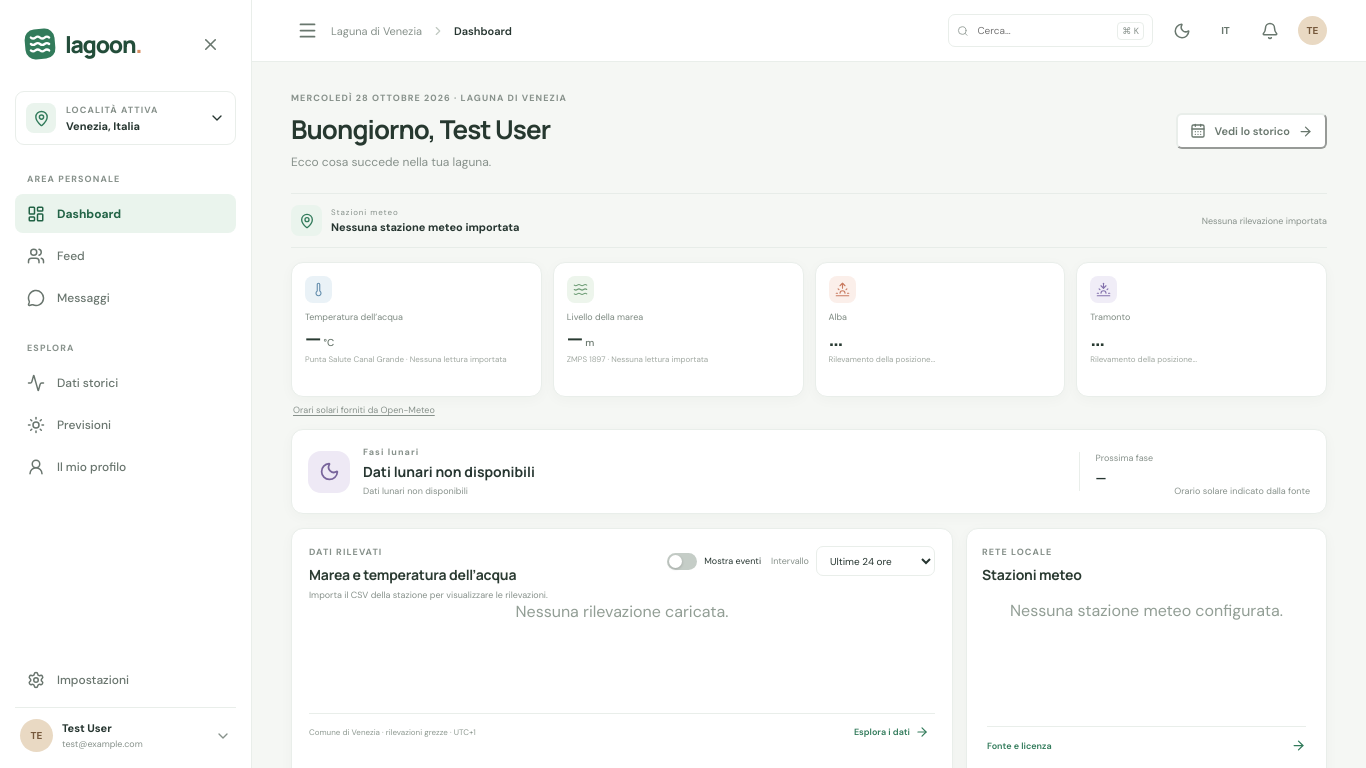
dashboard weather readings › lets the user choose a city for local sunrise and sunset times
This screenshot has width=1366, height=768.
Click the button "LOCALITÀ ATTIVA Venezia, Italia": {"x": 126, "y": 118} 15,91 -> 236,145
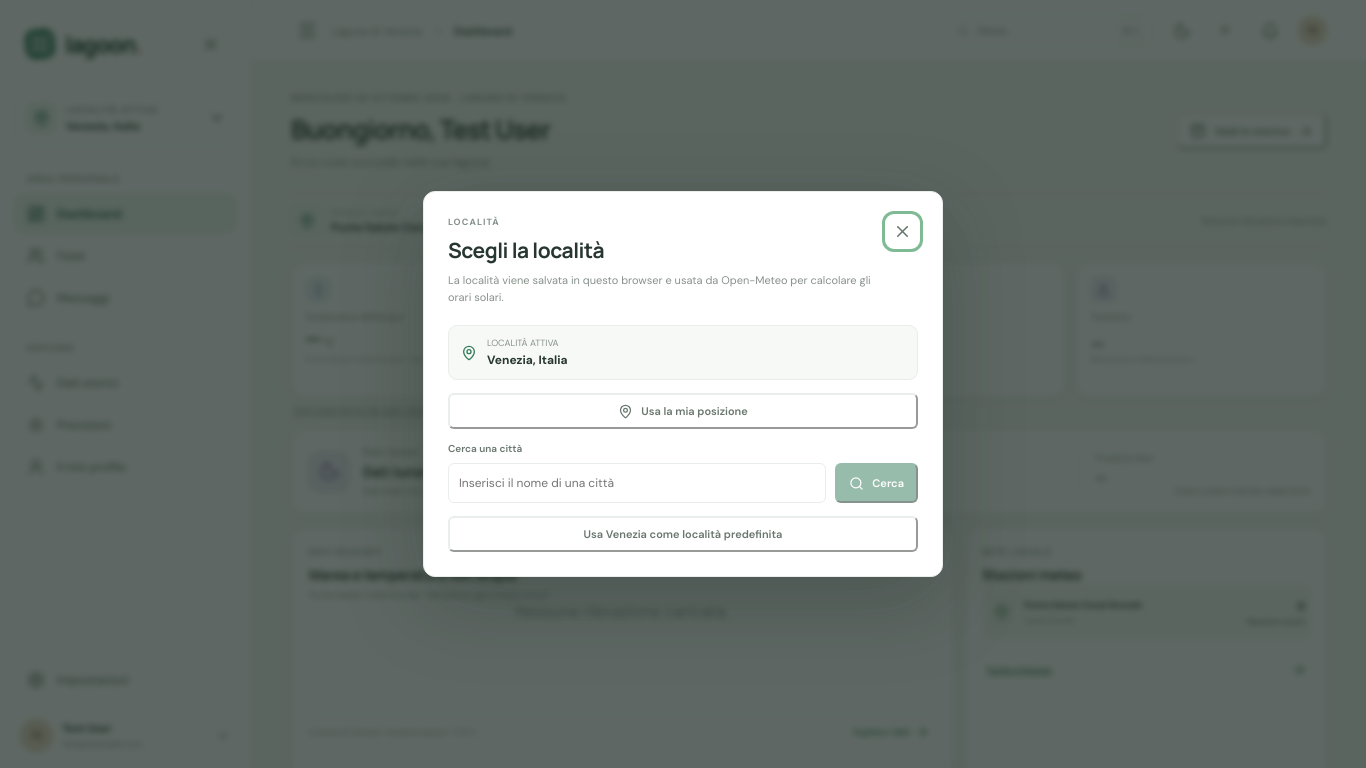
Now the heading "Scegli la località" is shown, box 448,236 -> 604,264
In the field with placeholder "Inserisci il nome di una città": {"x": 637, "y": 483} 448,463 -> 826,503, type "Milano"
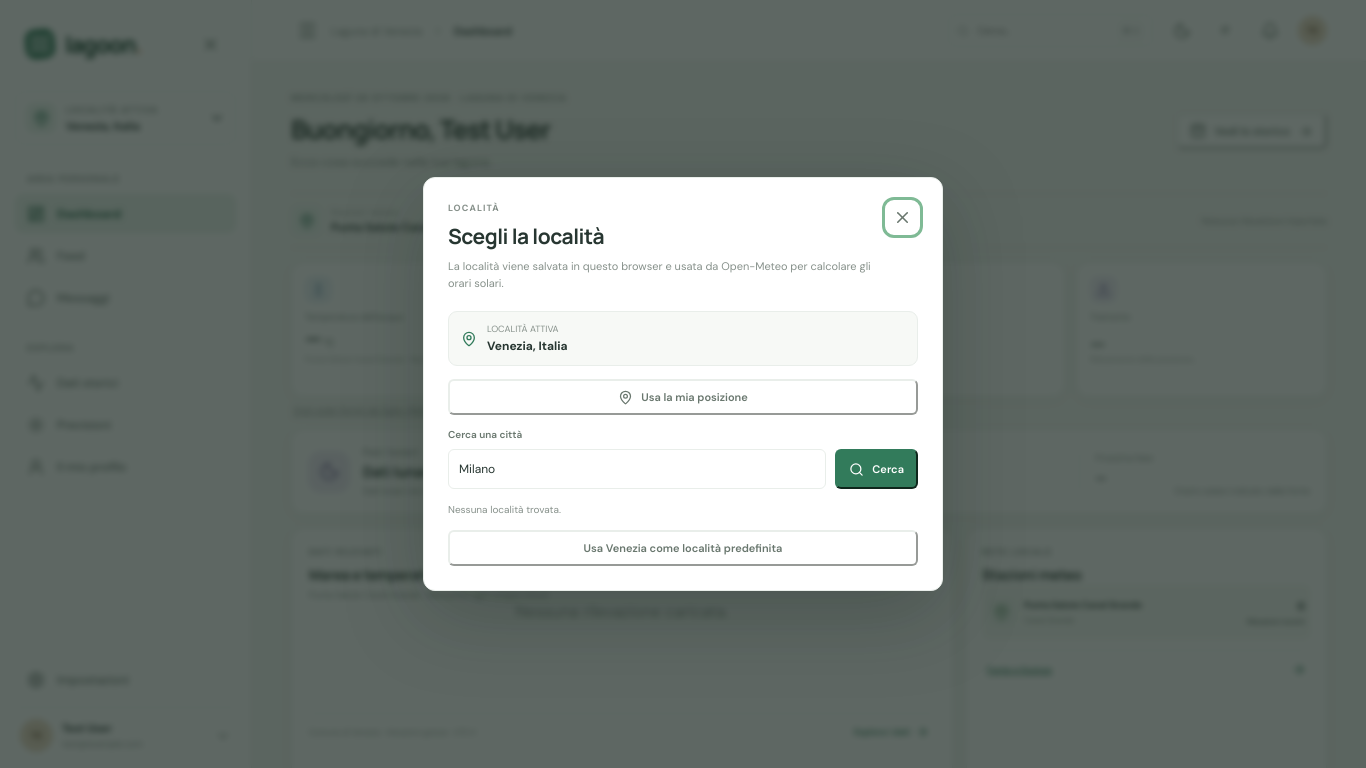
Click the button "Cerca": {"x": 877, "y": 469} 835,449 -> 918,489
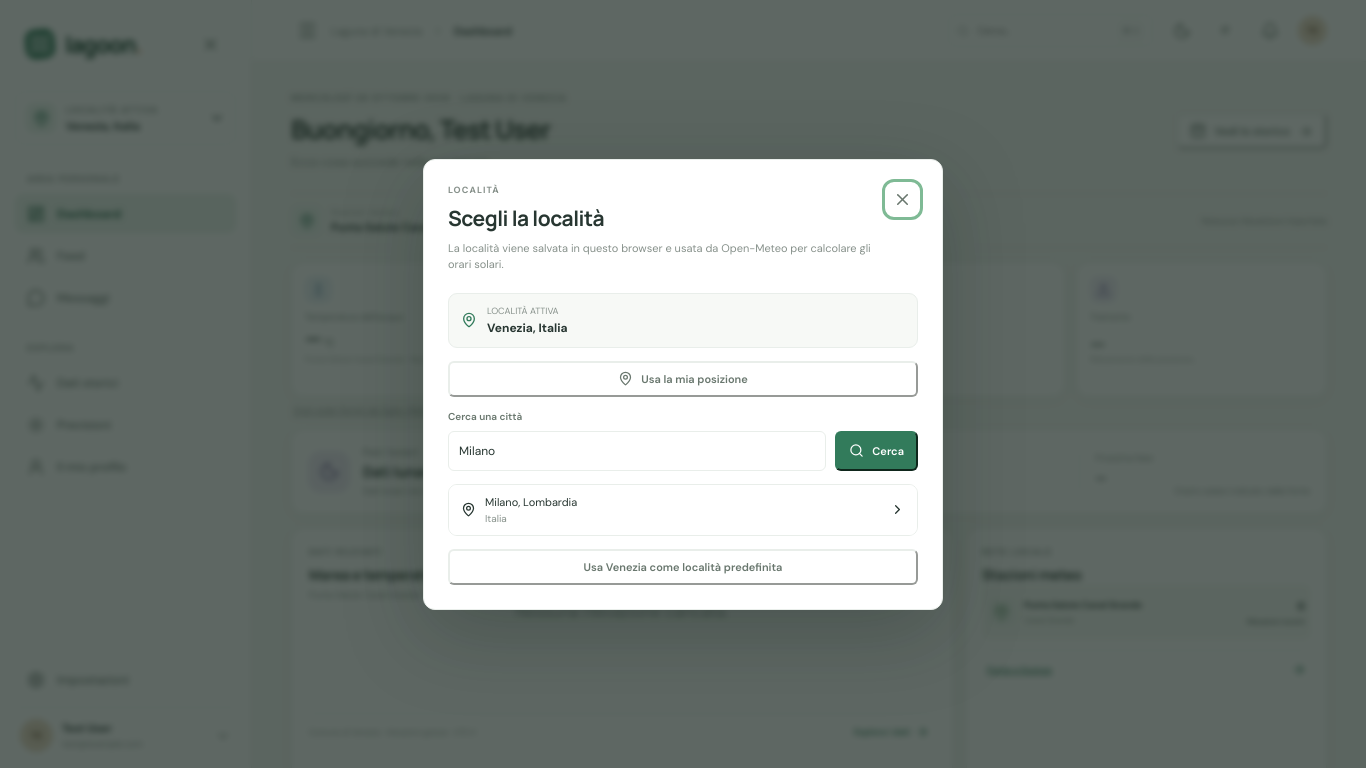
Click the button "Milano, Lombardia Italia": {"x": 502, "y": 502} 449,484 -> 917,534
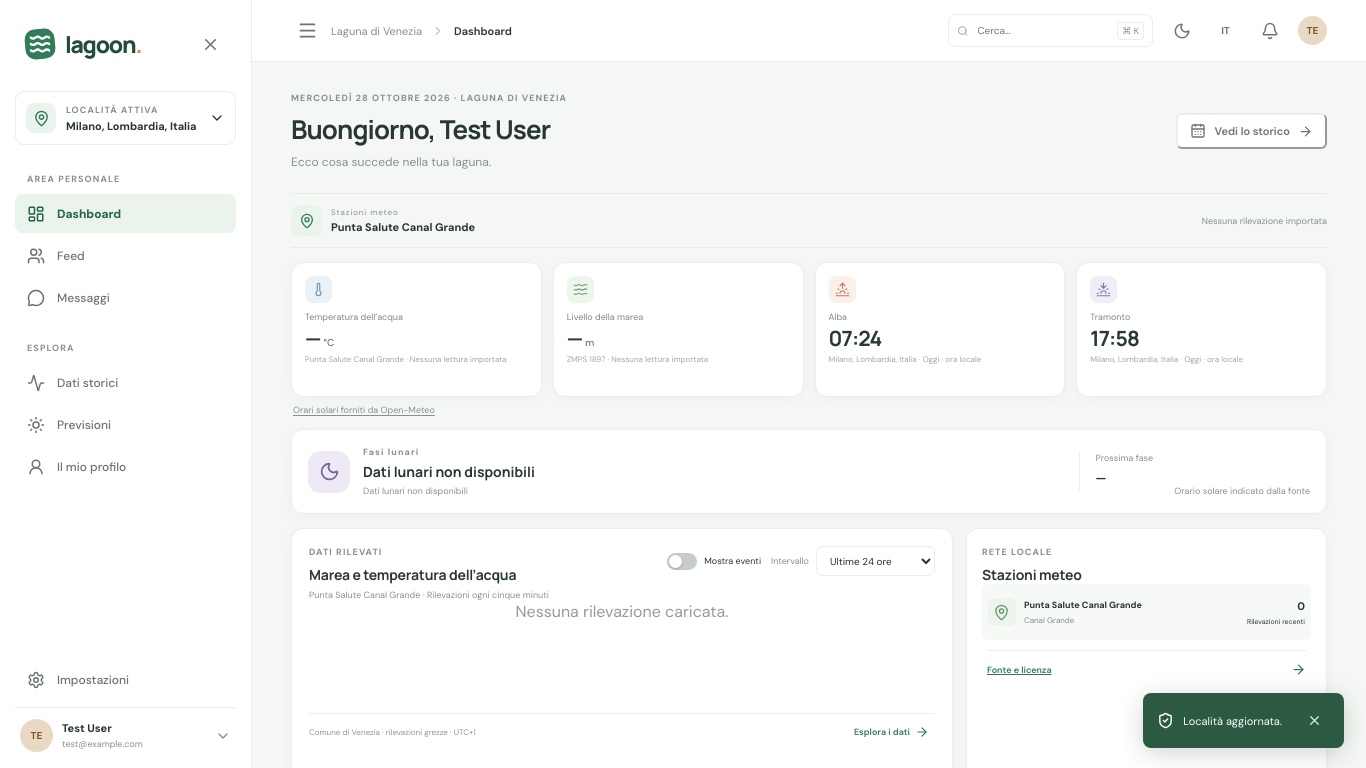
Now the button named "Venezia, Italia" shows "Milano, Lombardia, Italia", box 15,91 -> 236,145
